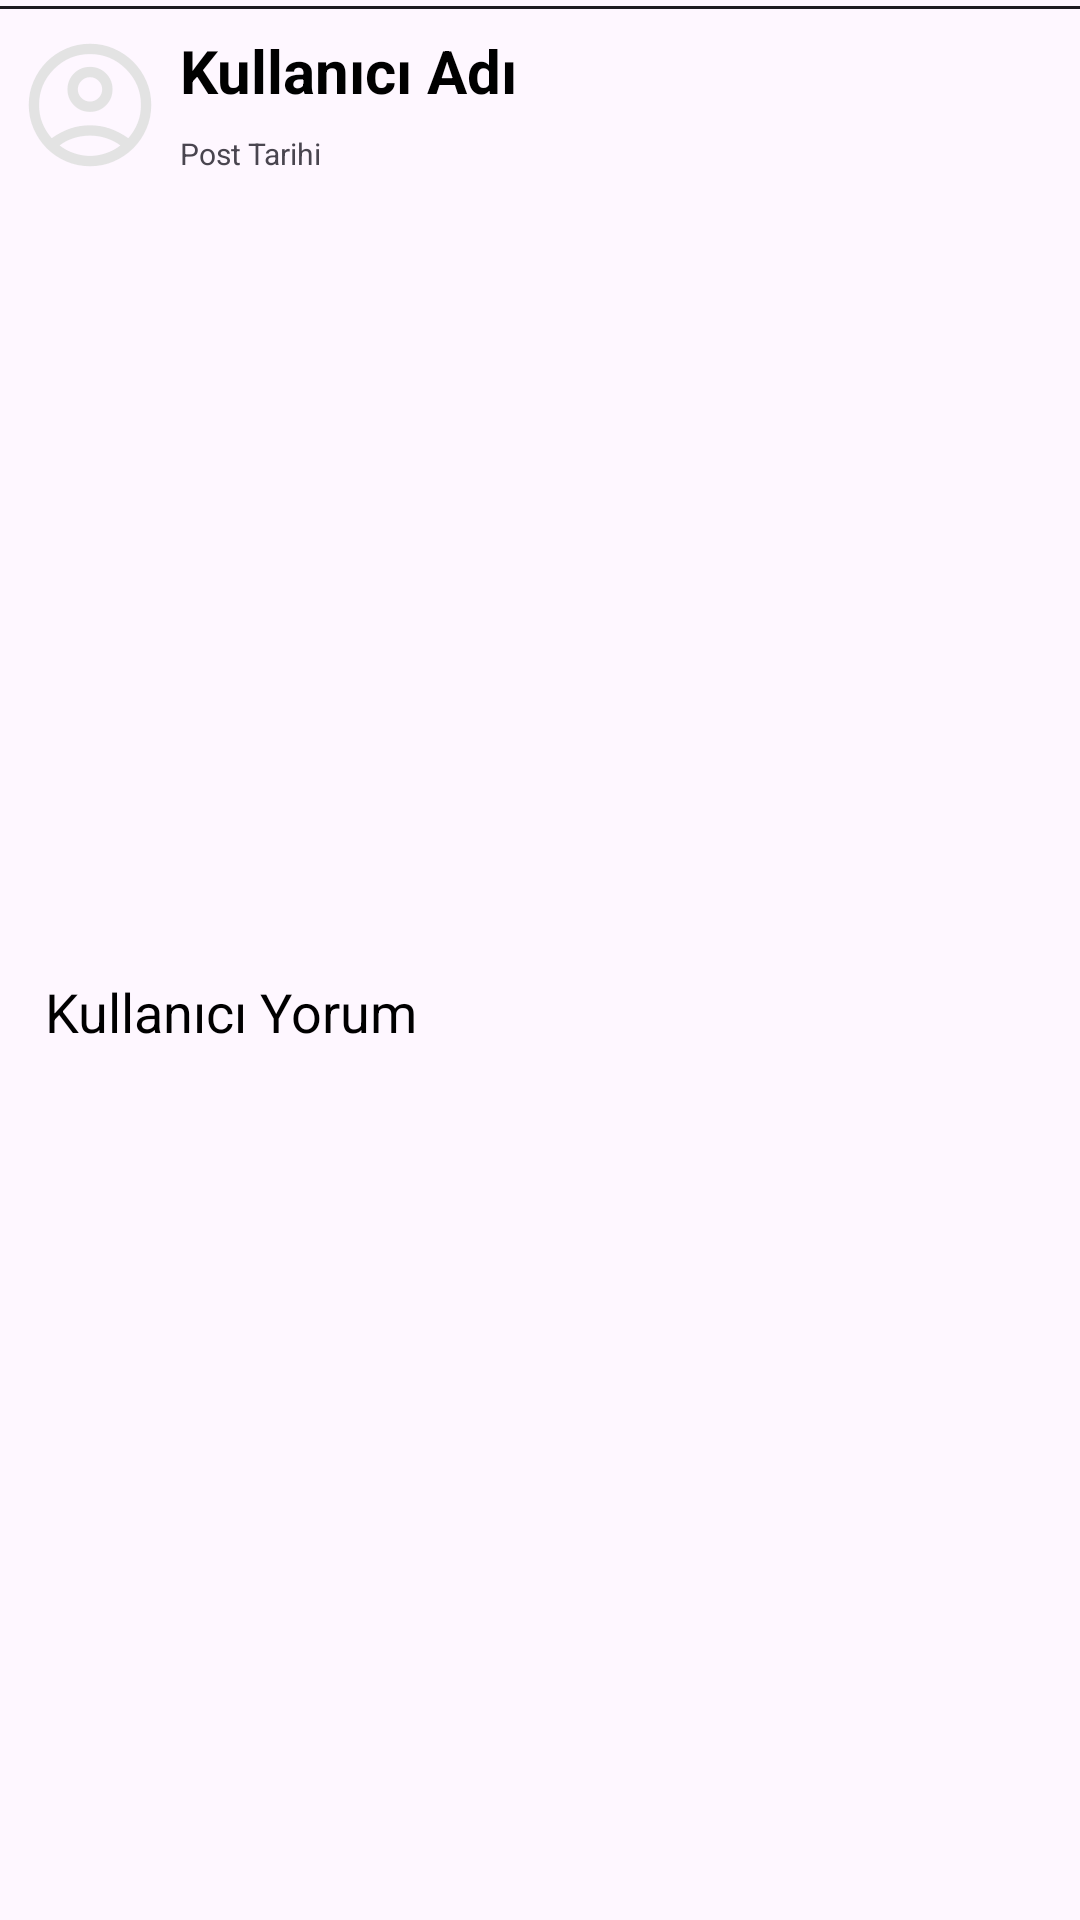

Locate icon controls on the screen. Image size 1080×1920, boxes as detection(x1, y1, x2, y2).
profile org: detection(29, 44, 151, 166)
